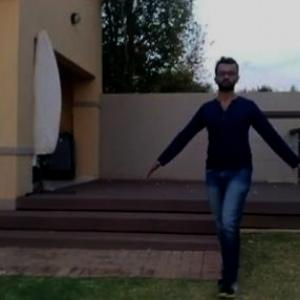land: (155, 65, 297, 281)
